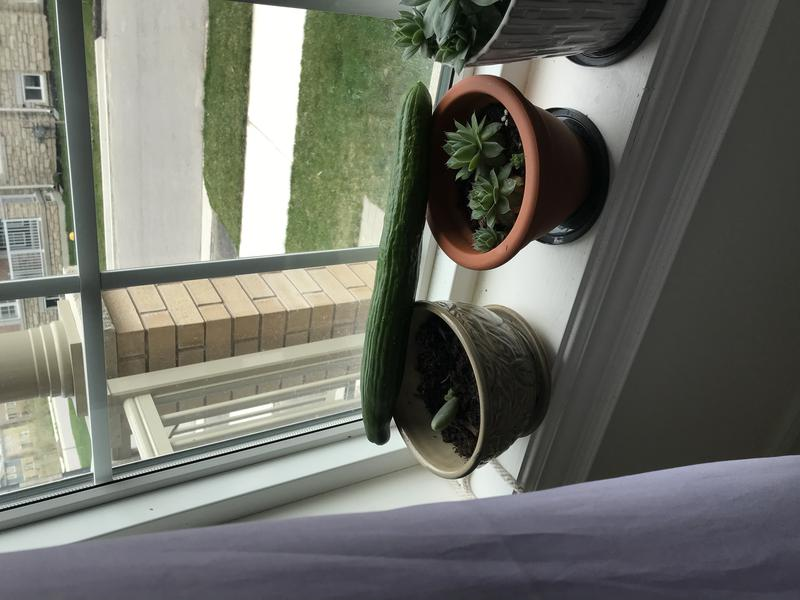cucumber: (355, 72, 439, 458)
